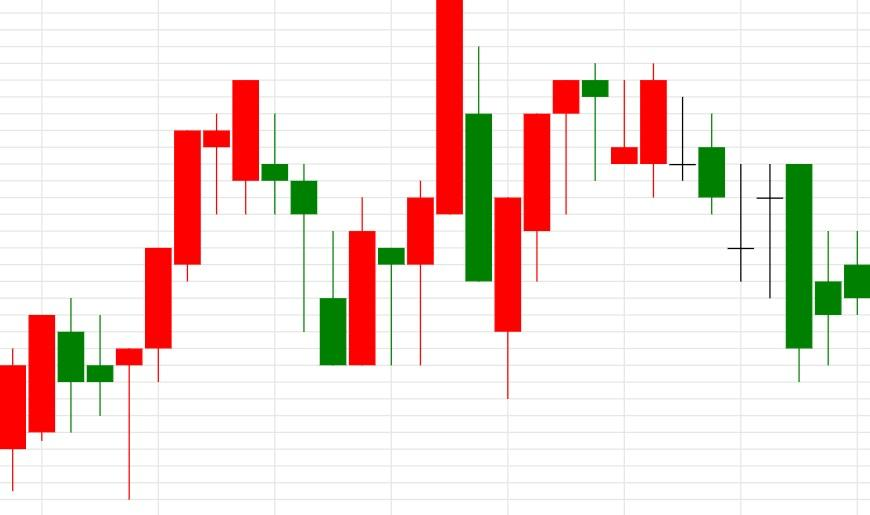bullish_engulfing_rise: (231, 79, 377, 367)
hanging_man_fall: (493, 63, 610, 397)
